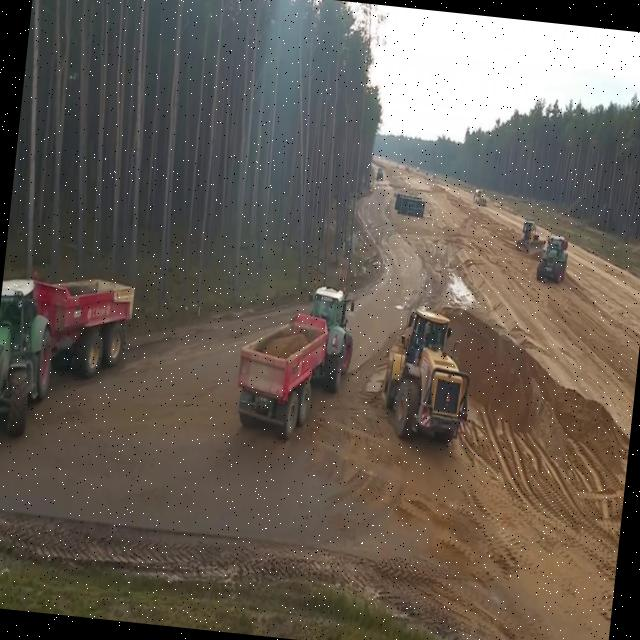Dump Truck: (0, 265, 138, 449), (230, 270, 360, 444)
Loader: (376, 303, 480, 447)
